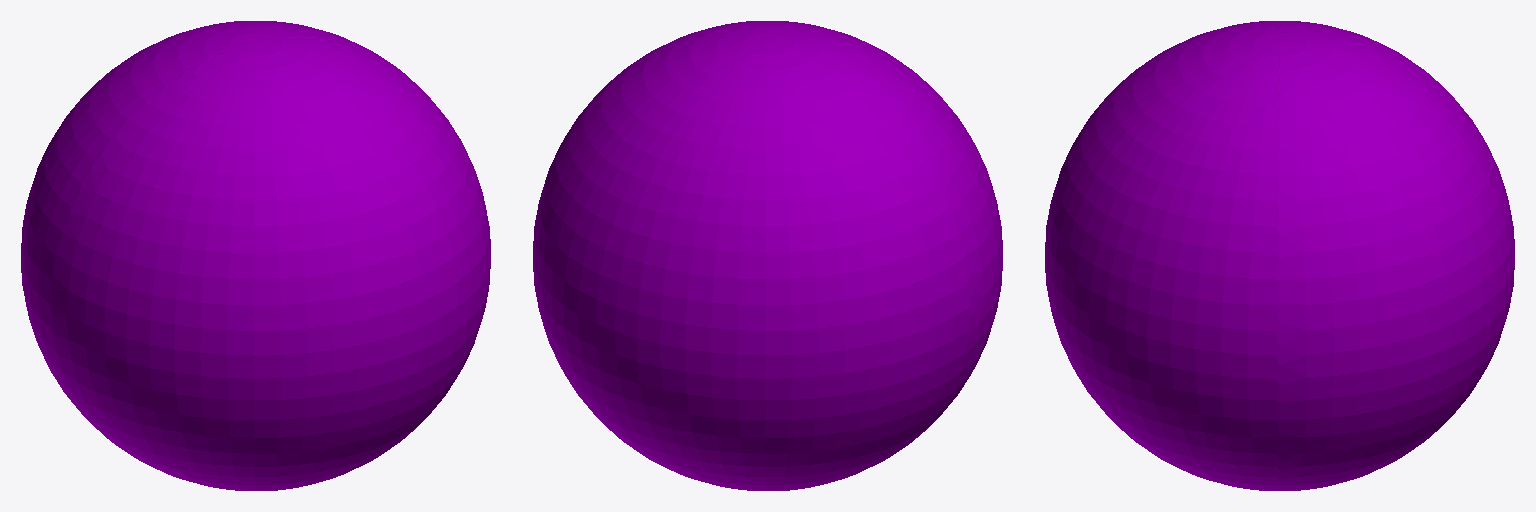
The model's file is pendel_ball.obj.
The picture shows the model from 3 angles: view 1: azimuth 30°, elevation 25°; view 2: azimuth 150°, elevation 25°; view 3: azimuth 270°, elevation 25°; orthographic projection.
Parts seen in each view (by area): view 1: 1; view 2: 1; view 3: 1.
Boxes of the visible parts, box(x1,y1,x2,y2) form: 1: box(21, 21, 490, 490); 1: box(533, 21, 1002, 490); 1: box(1045, 21, 1514, 490).
Bounding box in the file's own units: 99.98 × 100 × 99.89.